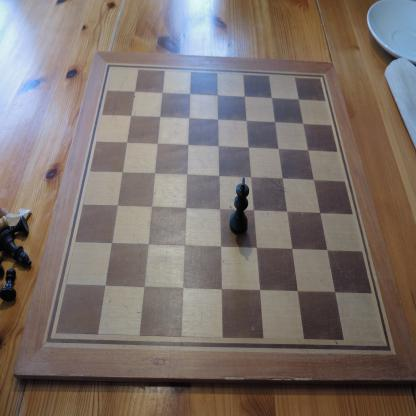black-bishop: (0, 230, 32, 268)
black-king: (230, 177, 250, 234)
black-pawn: (0, 268, 17, 302)
white-knight: (0, 208, 32, 231)
